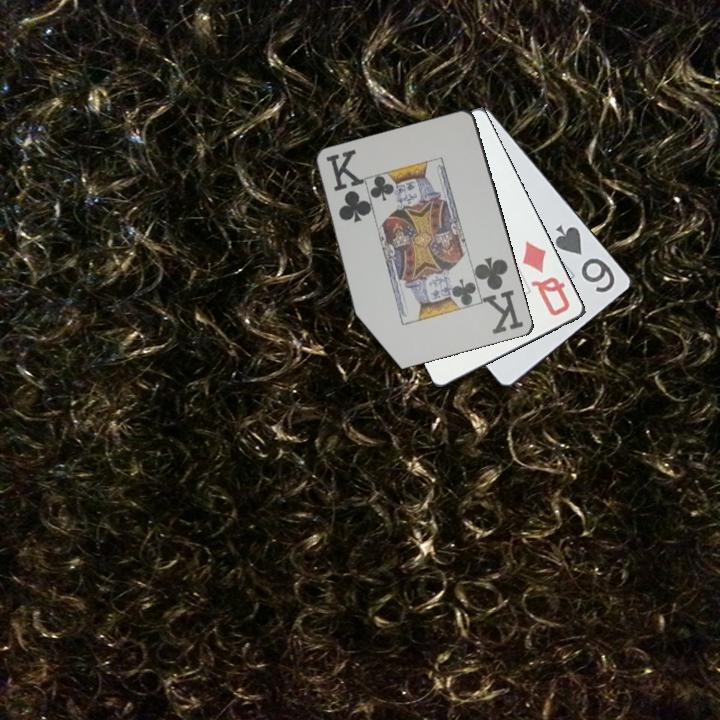6s: (552, 220, 618, 296)
Kc: (473, 252, 527, 337), (323, 147, 371, 226)
Qd: (519, 238, 573, 319)
